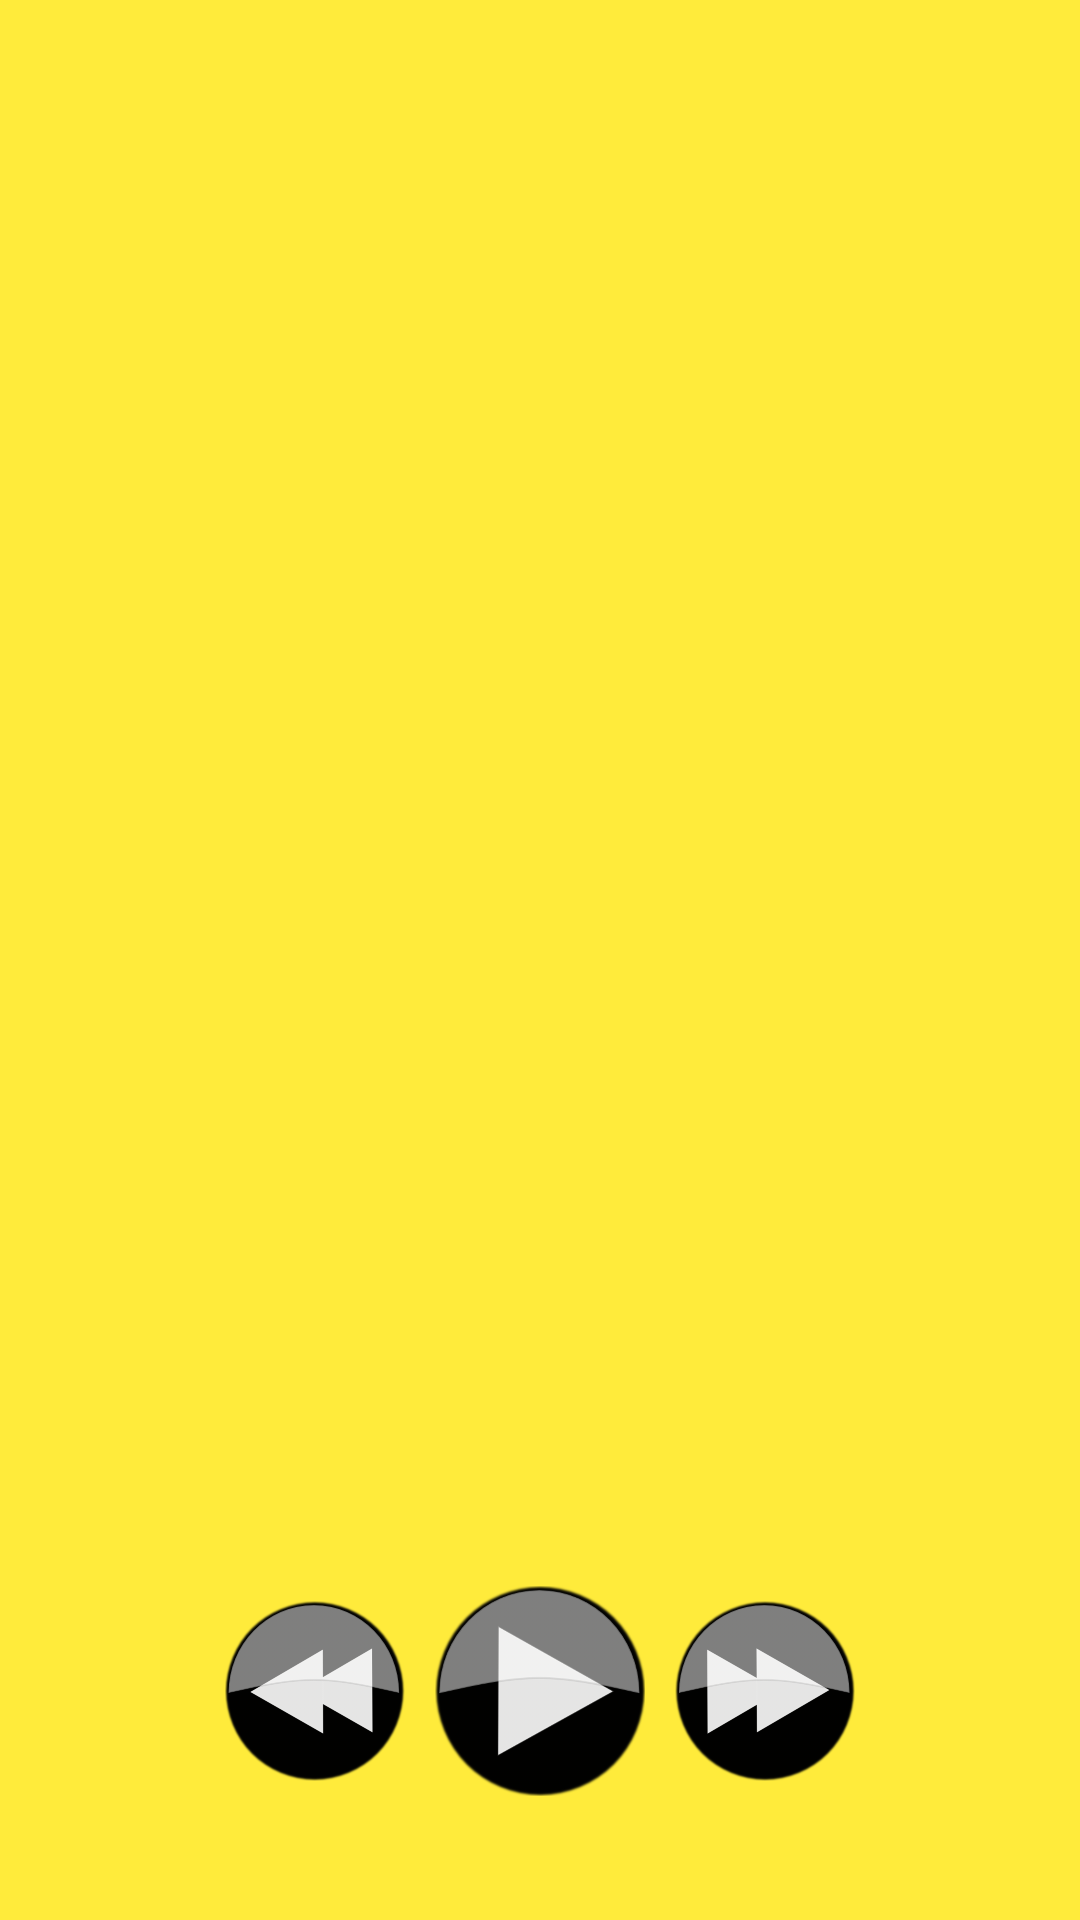

Icon click points for this 1080*1920 phone screenshot, format (x=x, y=y):
player bwd: (x=314, y=1691)
player fwd: (x=765, y=1691)
player play: (x=540, y=1691)
